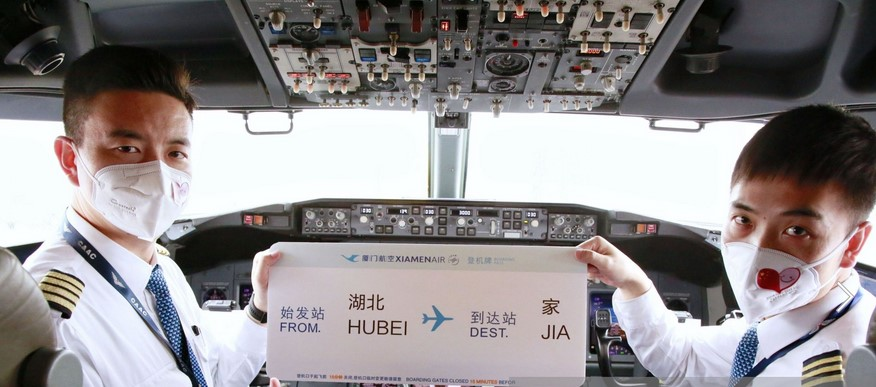face_with_mask: (714, 103, 875, 323), (54, 40, 198, 245)
